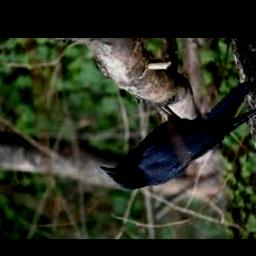Crow: (100, 79, 256, 191)
